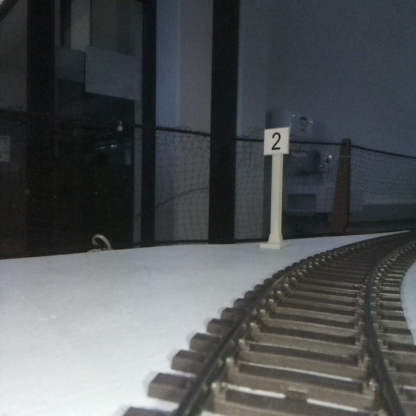white-info-2: (264, 127, 288, 246)
